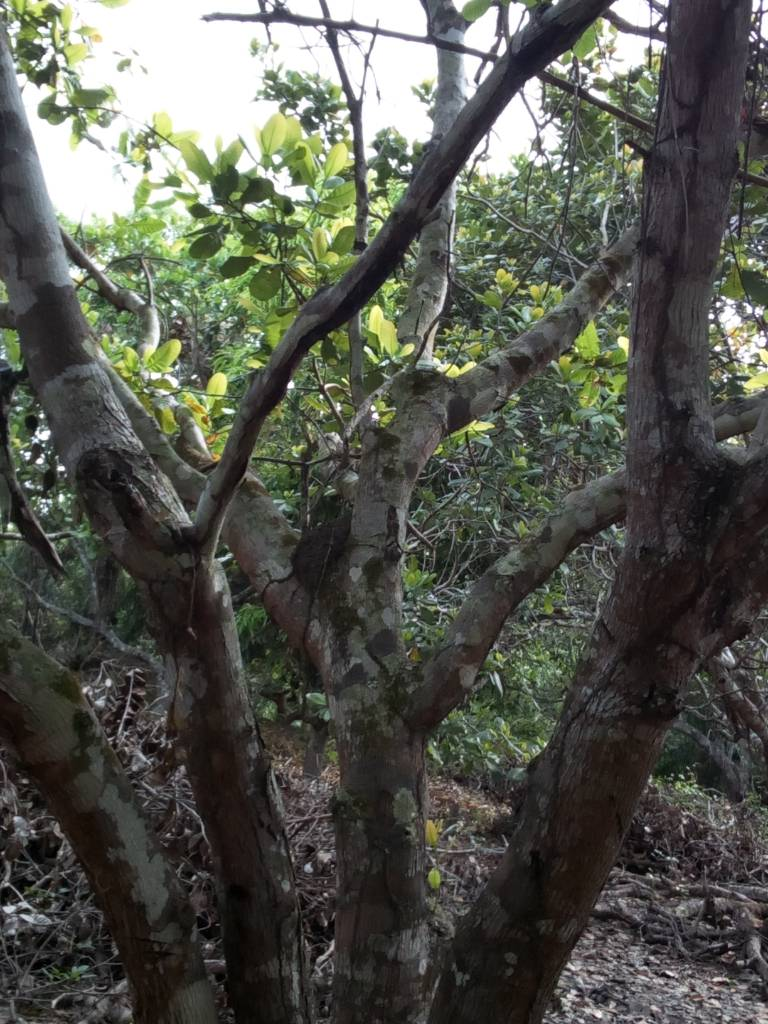Termites: (529, 585, 719, 872)
